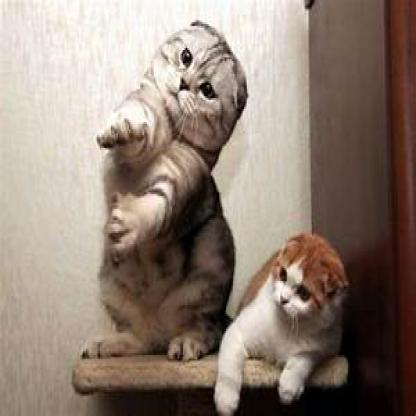cat: (97, 17, 246, 342), (233, 229, 352, 405)
